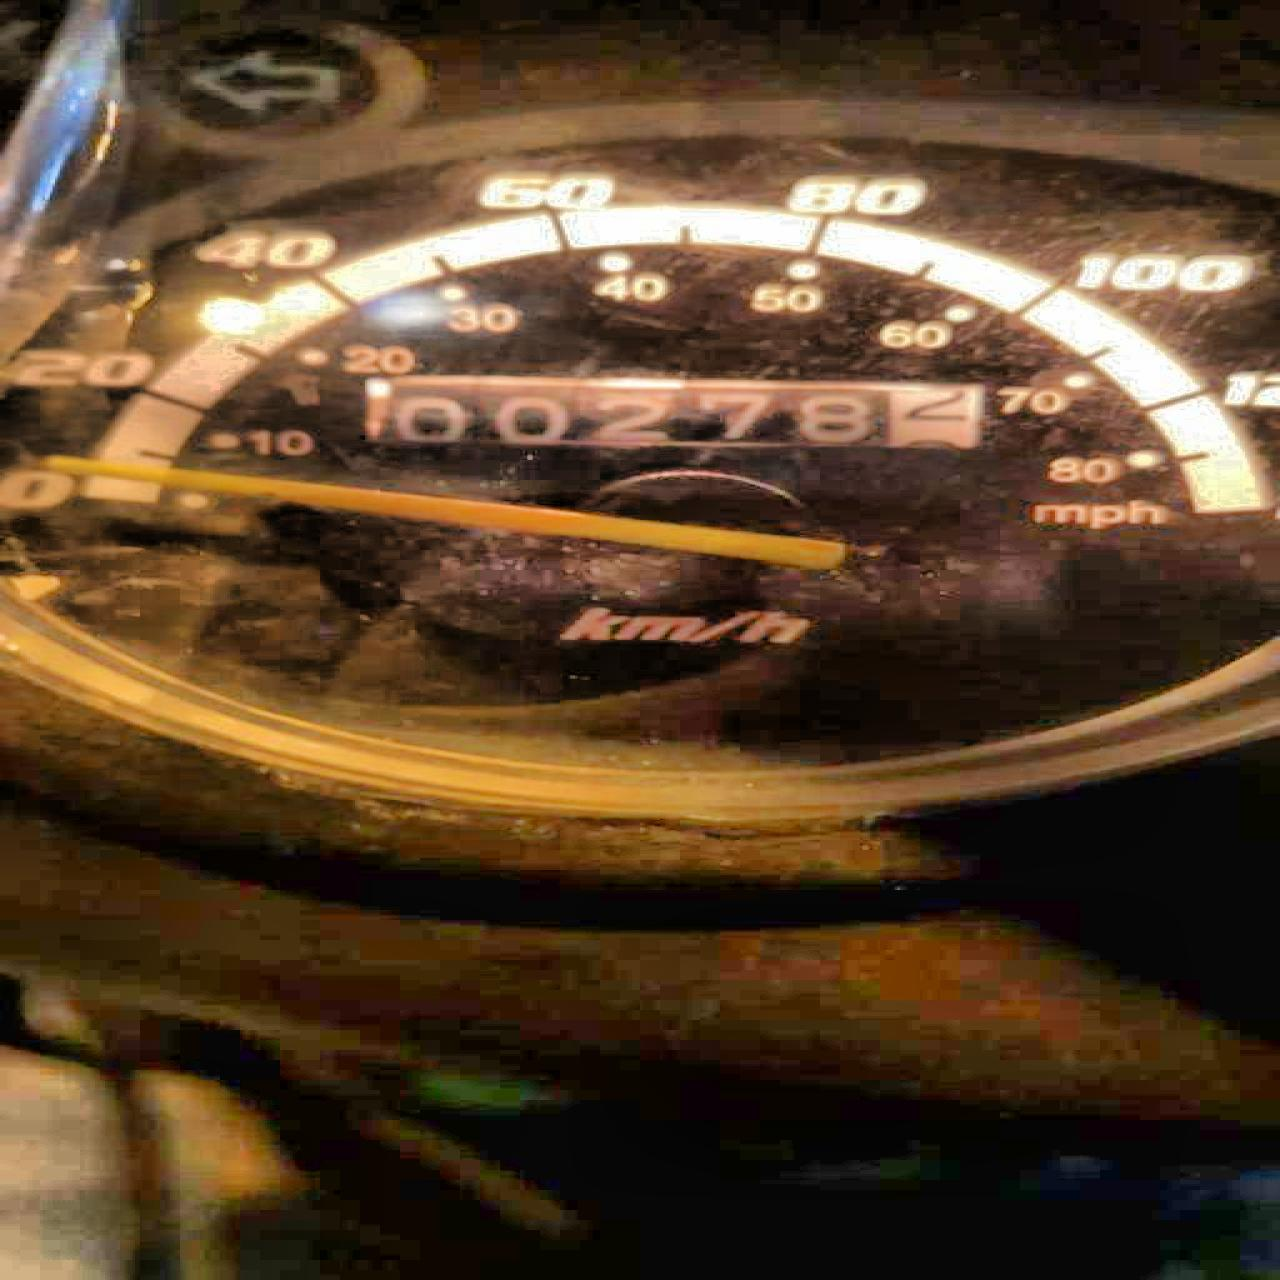0: (492, 394, 567, 444), (393, 394, 465, 441)
2: (591, 393, 668, 443), (903, 380, 967, 422)
7: (693, 388, 777, 434)
8: (790, 393, 878, 445)
odometer: (355, 370, 995, 450)
